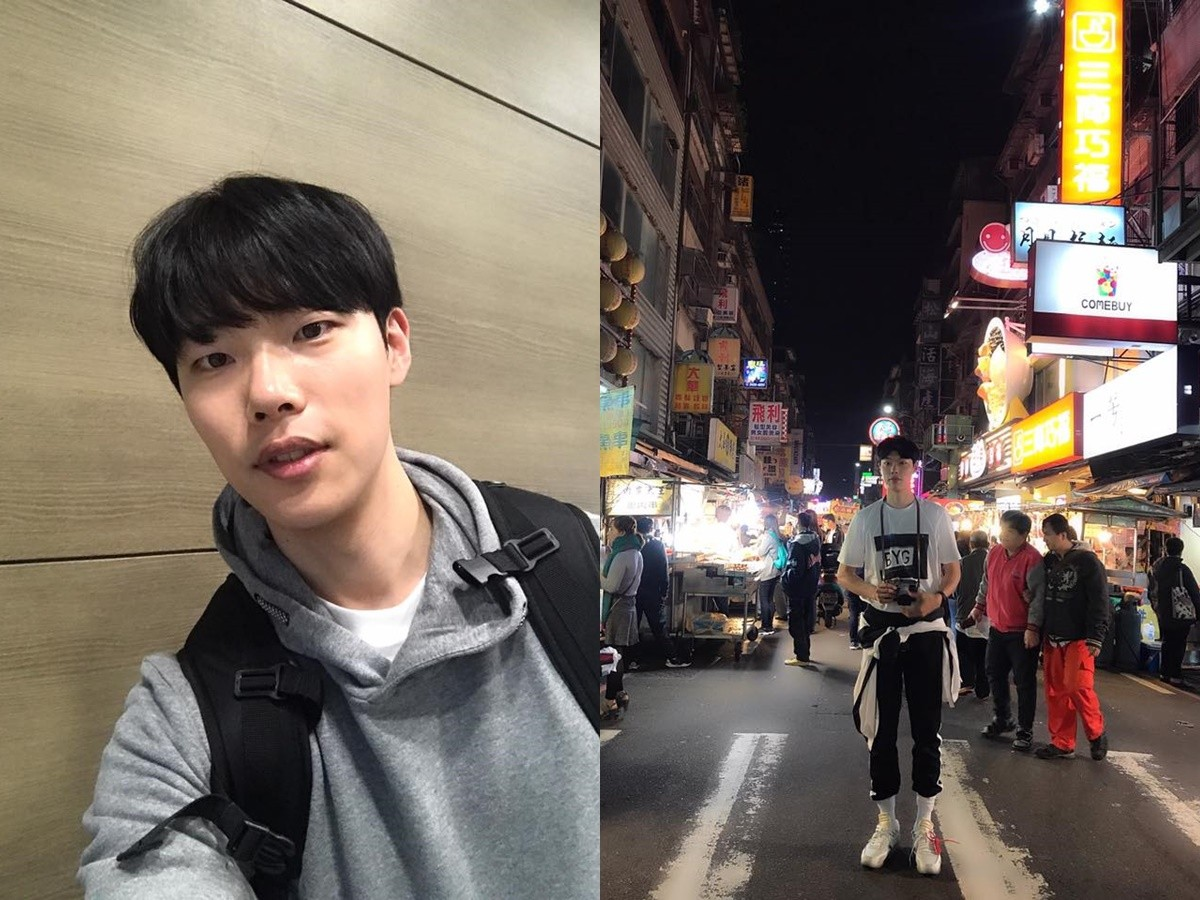people: (107, 184, 595, 900), (861, 443, 948, 870), (1043, 508, 1116, 748), (989, 509, 1041, 738), (639, 506, 683, 669), (1156, 528, 1199, 677), (790, 516, 822, 664), (612, 519, 638, 650), (826, 509, 844, 623)
